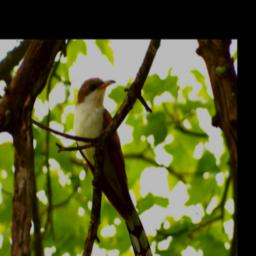Cuckoo: (73, 77, 155, 256)
